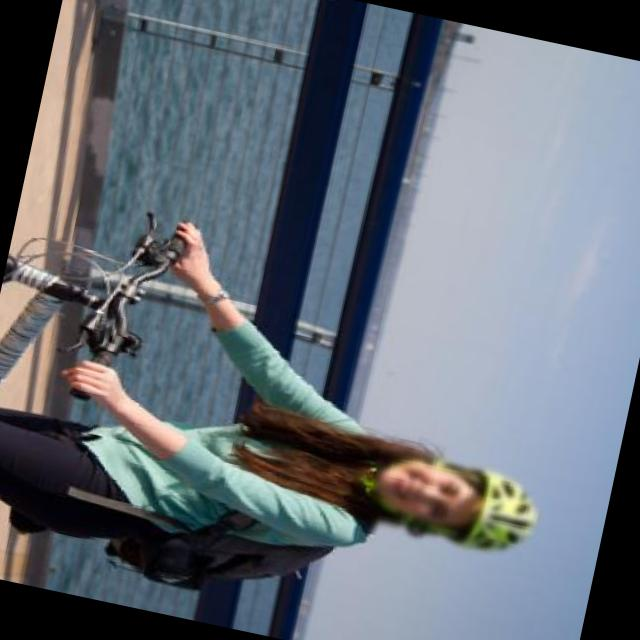With Helmet: (360, 440, 546, 566)
